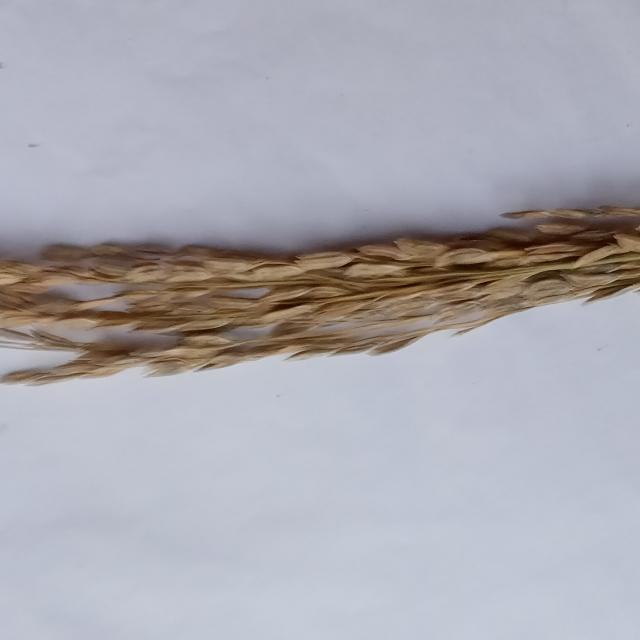Neck_Blast: (0, 202, 640, 394)
